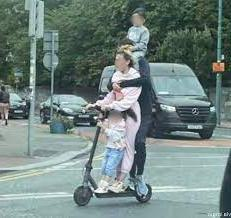multiple: (71, 7, 153, 207)
